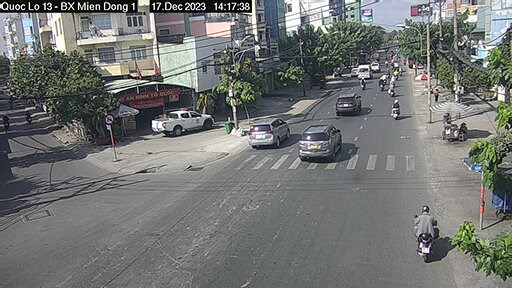car: (147, 104, 217, 137), (300, 121, 343, 161), (242, 114, 293, 147), (332, 93, 365, 114), (358, 64, 373, 81)
motorbike: (415, 213, 436, 261), (392, 104, 405, 120)
